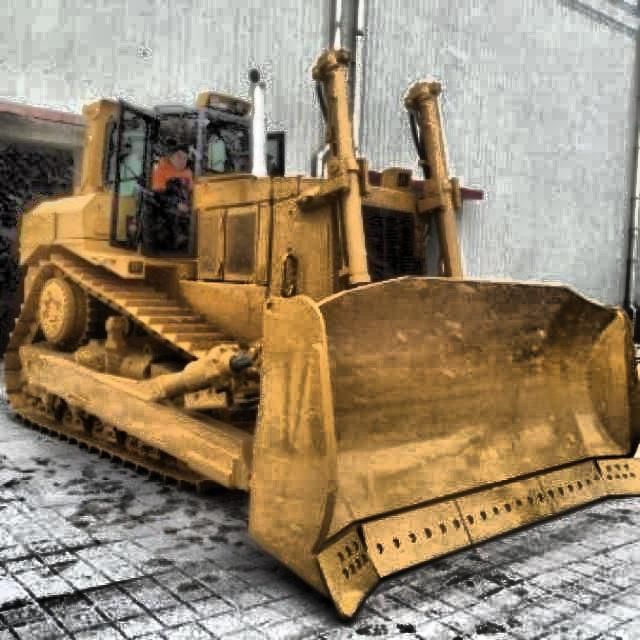bull_dozer/loader/grader: (0, 46, 640, 626)
person: (152, 146, 192, 248)
